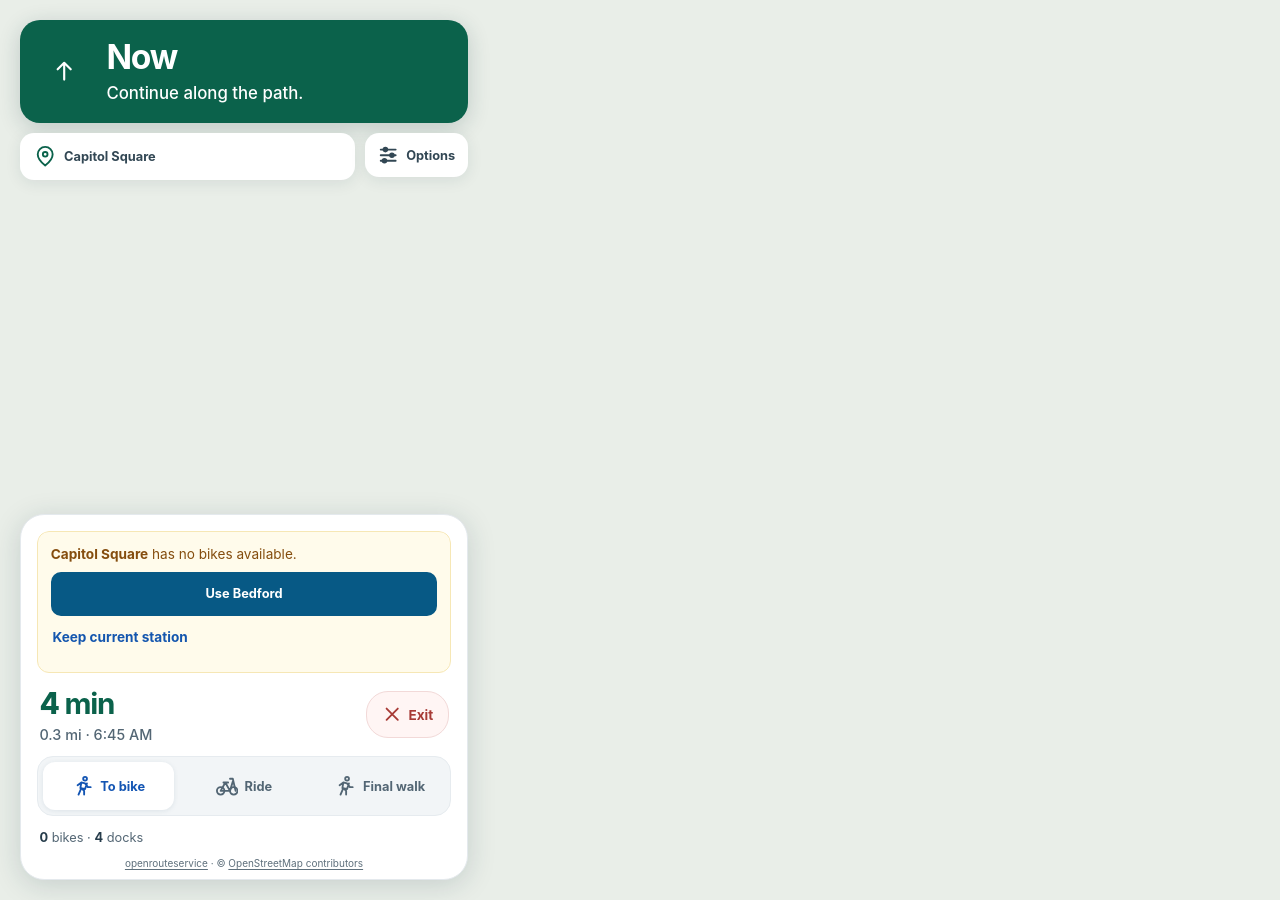
Scenario: guided navigation screen › asks before changing an unavailable pickup, then guides to the accepted replacement
Expected: the element with test id "navigation-target" reads "Capitol Square", [64,149,156,164]
Click the button "Use Bedford" at (244, 594), box [51,572,437,616]
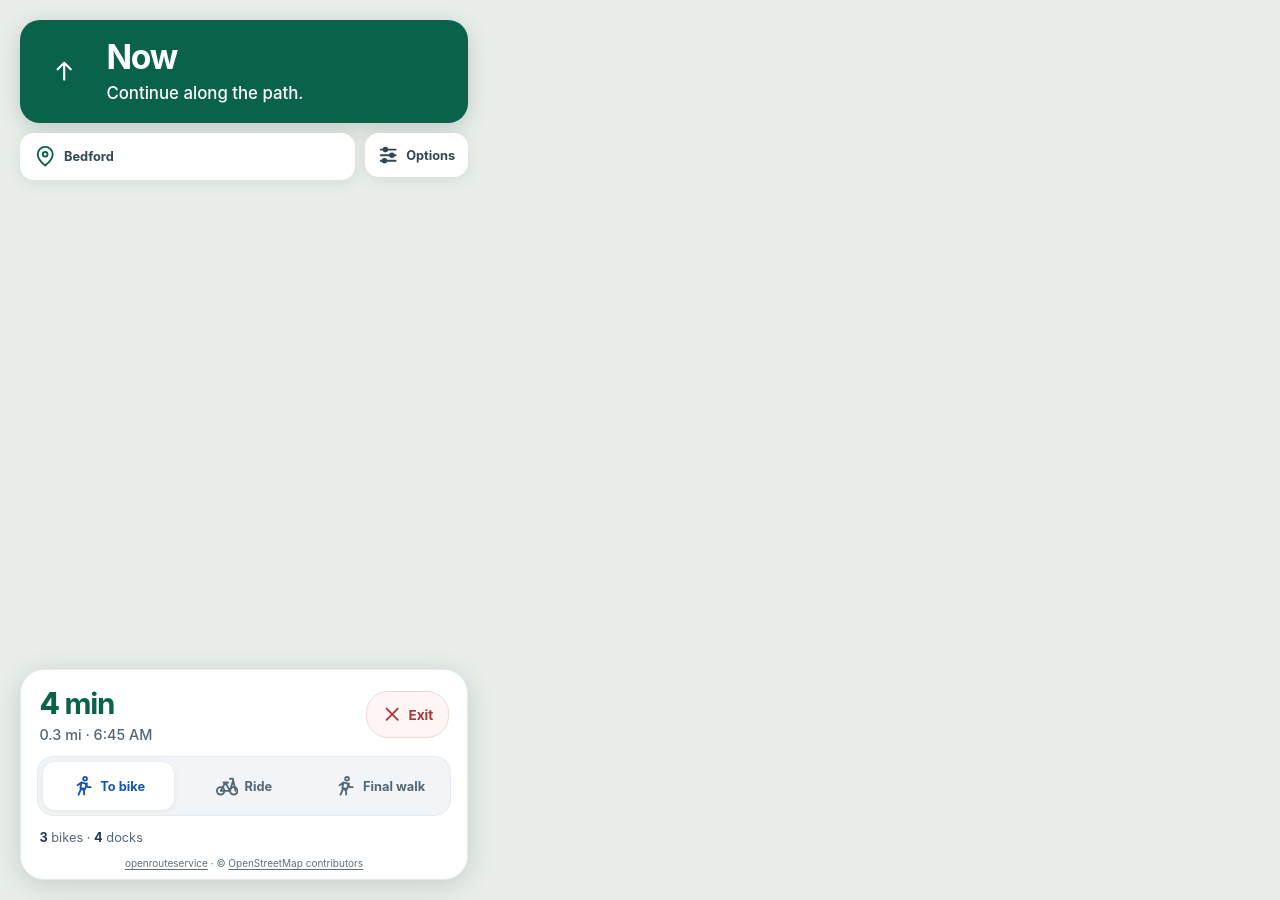
Now the element with test id "navigation-target" reads "Bedford", box [64,149,114,164]
